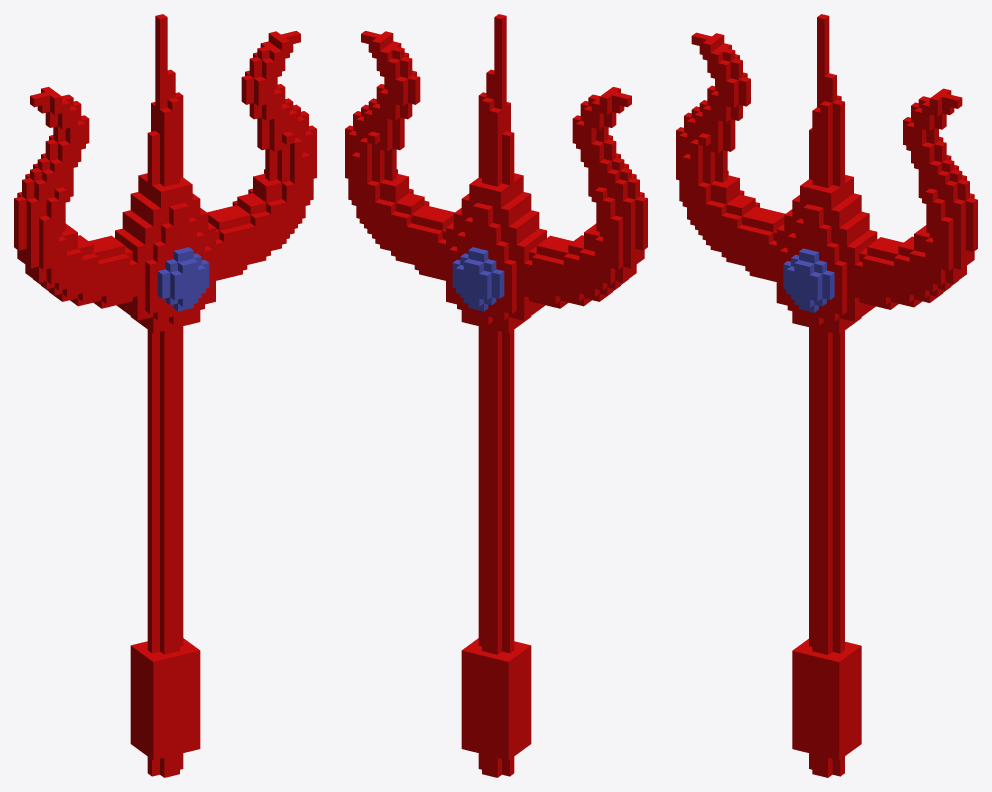
File: weapon_yari.obj
The picture shows the model from 3 angles, left to right: view 1: azimuth 30°, elevation 25°; view 2: azimuth 150°, elevation 25°; view 3: azimuth 330°, elevation 25°; orthographic projection.
Size of the model in its own units: 3.8 by 9.2 by 1.1.
1 material, 1 textured.
